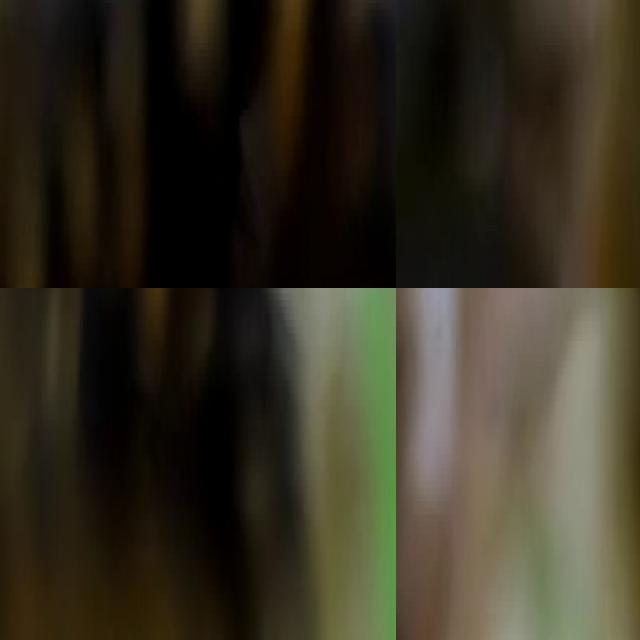fish: (0, 0, 396, 288), (574, 0, 640, 288)
